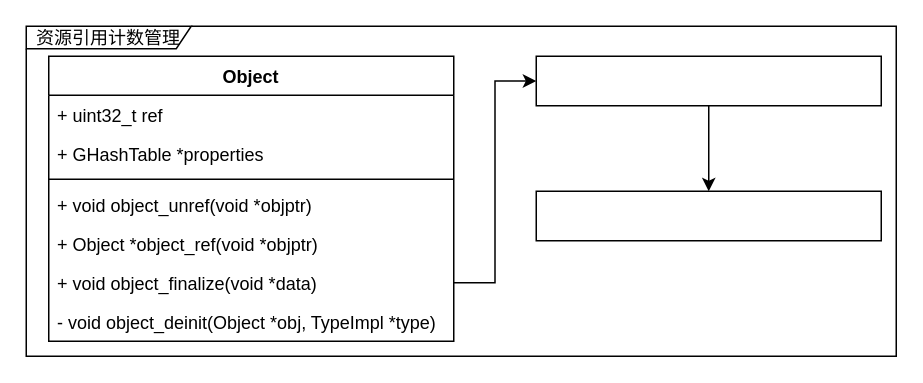
Some shapes in this 923 by 383 pixel diagram are drawn without their labels. The box of each missing label's shape, as (x1, y1, x2, y2) in pixels:
properties[i].value->release(obj): (535, 190, 881, 241)
void object_property_del_all(Object *obj): (535, 55, 881, 106)
